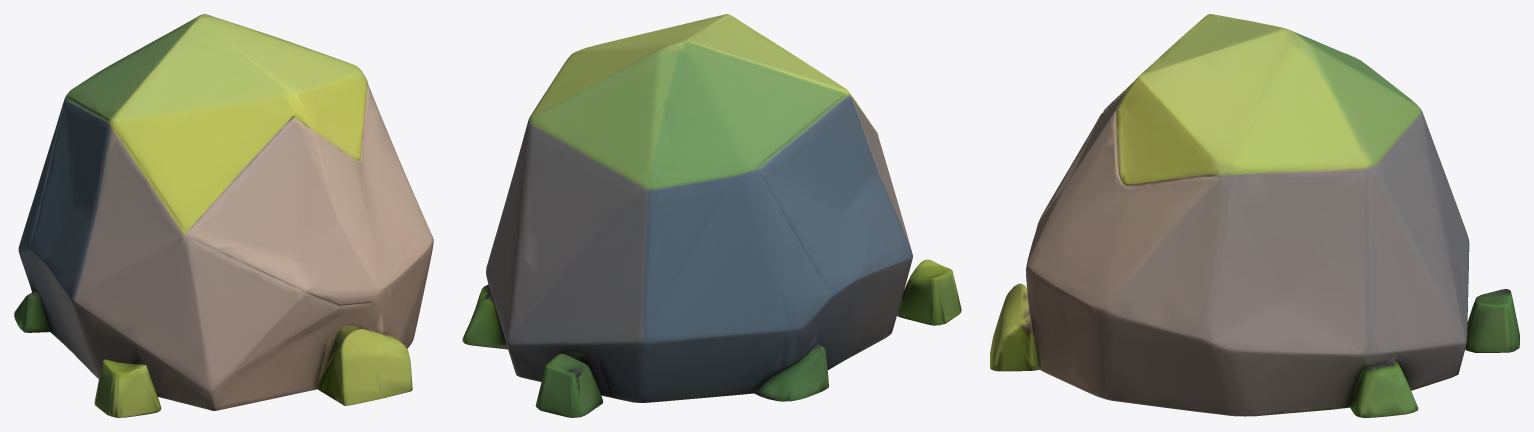
The model's file is stone2.fbx.
The picture shows the model from 3 angles, left to right: view 1: azimuth 30°, elevation 25°; view 2: azimuth 150°, elevation 25°; view 3: azimuth 270°, elevation 25°; orthographic projection. The views are drawn at different scales.
Visible parts, largest first — view 1: stone2; view 2: stone2; view 3: stone2.
Boxes of the visible parts, x1,y1,x2,y2 form: stone2: [14, 14, 433, 417]; stone2: [462, 14, 961, 417]; stone2: [990, 14, 1519, 417].
Bounding box in the file's own units: 32.16 × 24.79 × 39.11.
Materials: 1 (1 with a texture image).
